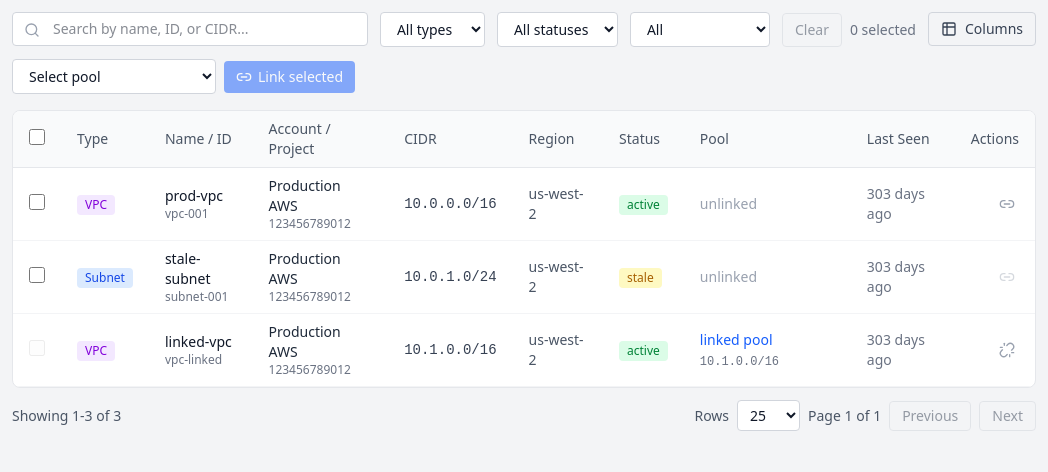
Test case: ResourcesTab › selects and clears all visible unlinked resources from the header checkbox
The width and height of the screenshot is (1048, 472).
Step 1. Click the checkbox named "Select all visible resources" → (37, 136), box [29, 128, 45, 144]
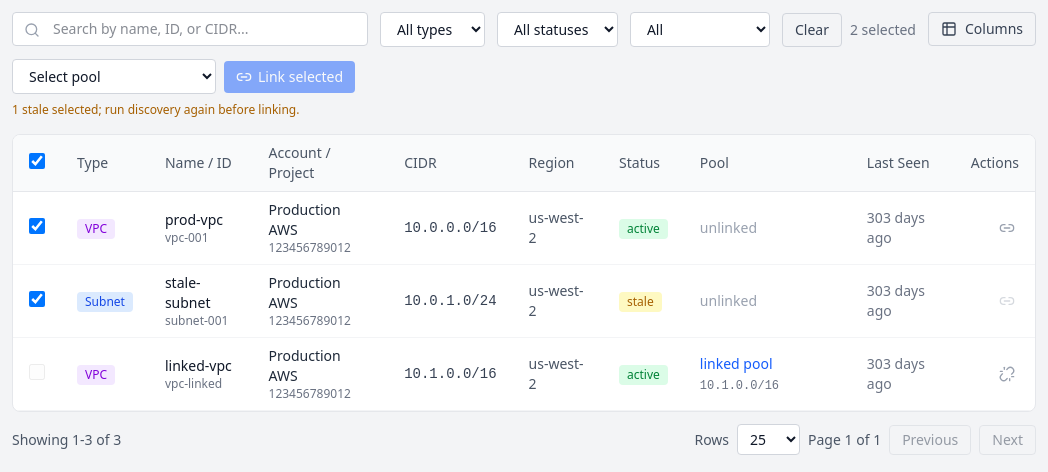
Now the text "2 selected" is shown, box [850, 20, 916, 40]
Step 2. Click the checkbox named "Select all visible resources" → (37, 160), box [29, 152, 45, 168]
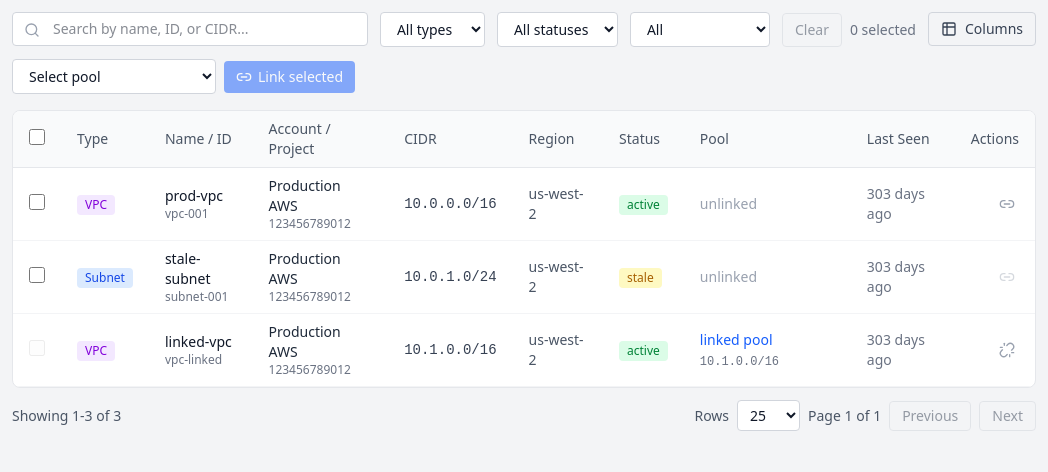
Now the text "0 selected" is shown, box [850, 20, 916, 40]
